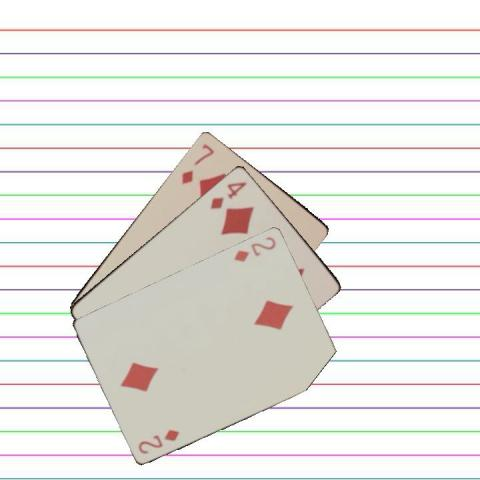2d: (231, 232, 277, 262), (134, 426, 180, 456)
4d: (207, 178, 248, 211)
7d: (178, 140, 215, 185)
